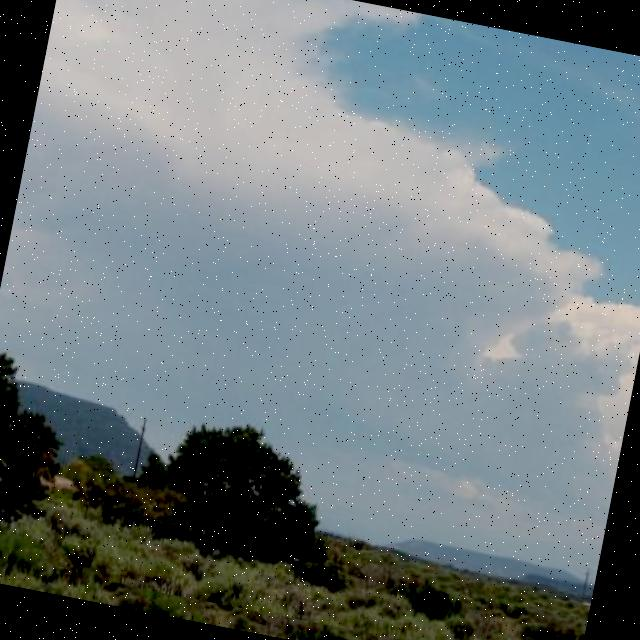Cs: (1, 1, 640, 413)
